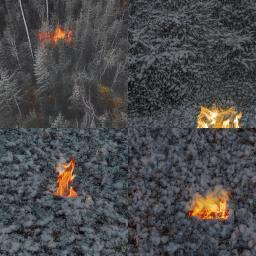Small fire: (187, 188, 231, 222), (52, 159, 81, 199), (198, 106, 241, 127), (37, 26, 75, 47)
